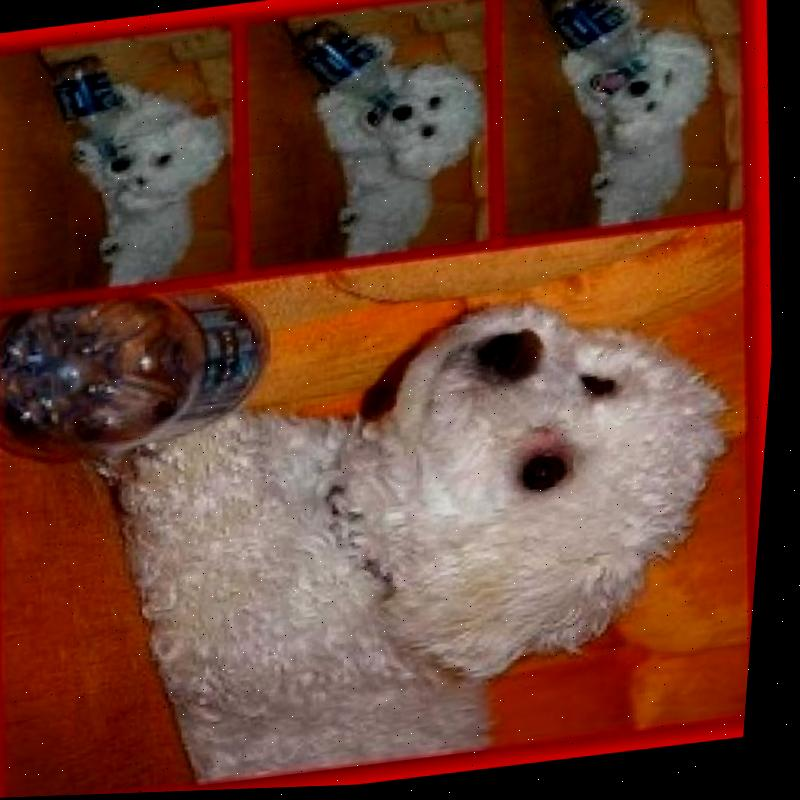botella: (0, 282, 284, 471), (288, 13, 403, 124), (535, 0, 649, 94), (47, 51, 132, 169)
